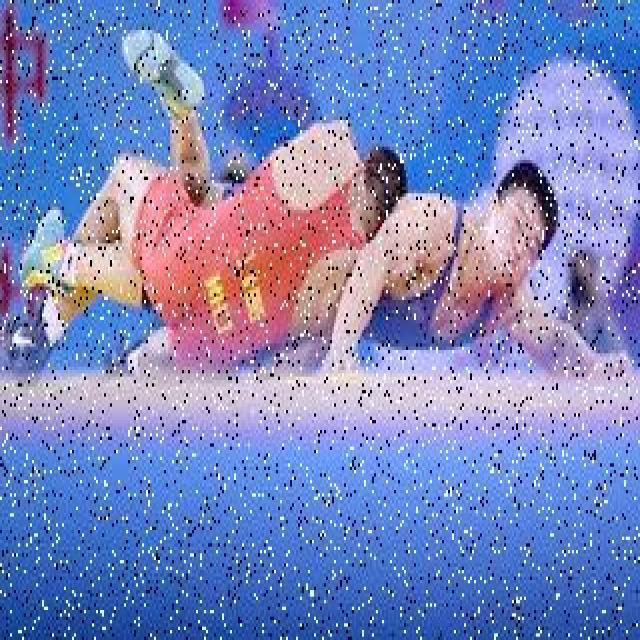fall: (66, 117, 394, 380)
